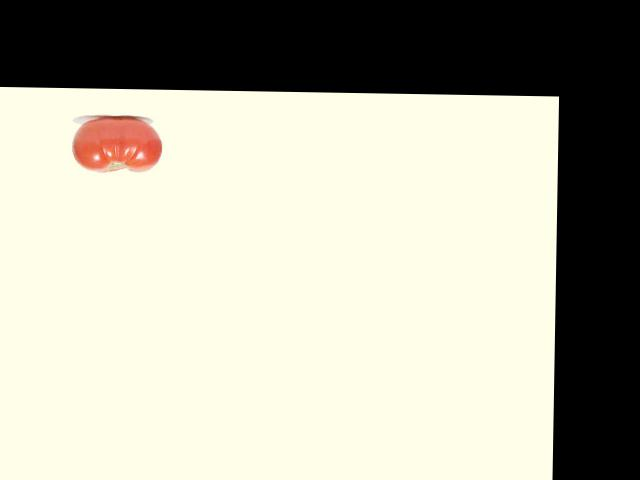tomato: (72, 117, 163, 173)
